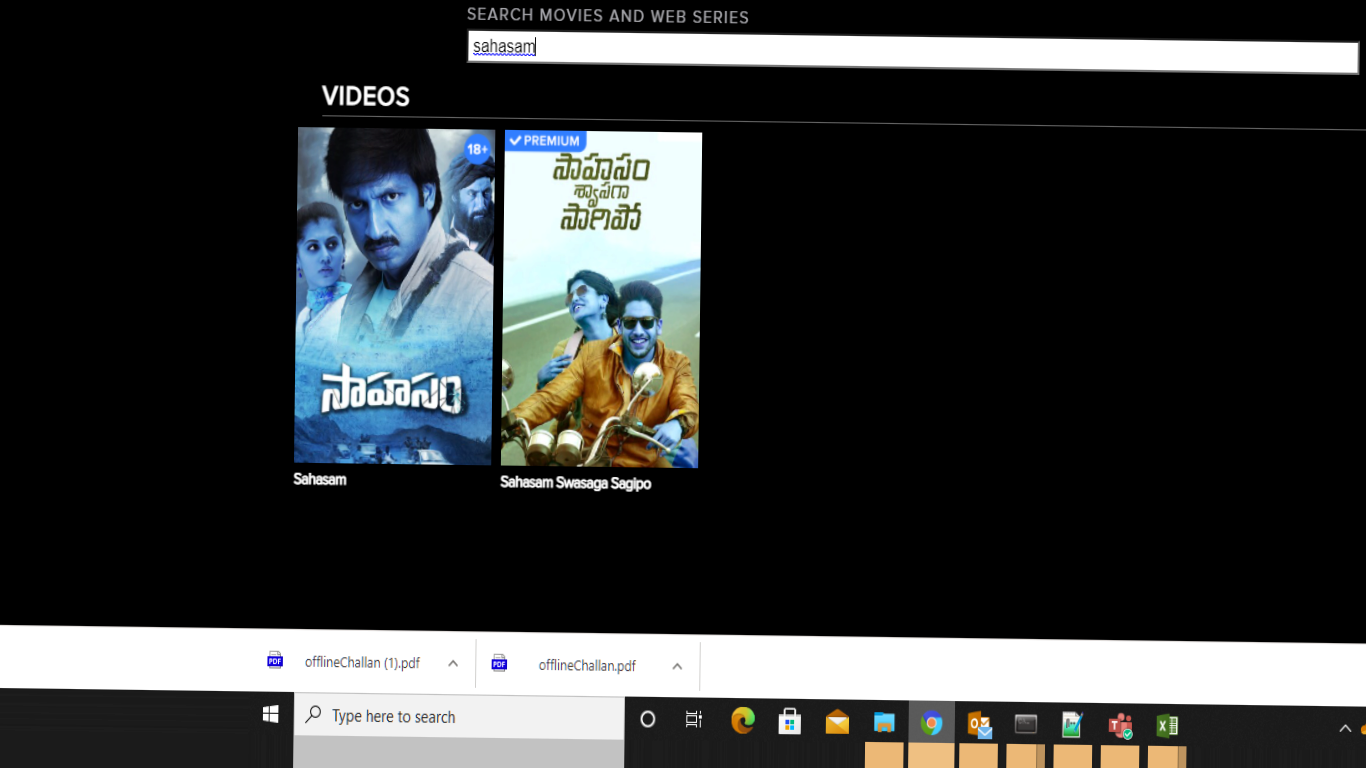resultsfound: (311, 67, 505, 115)
searchtextbox: (460, 7, 1366, 98)
